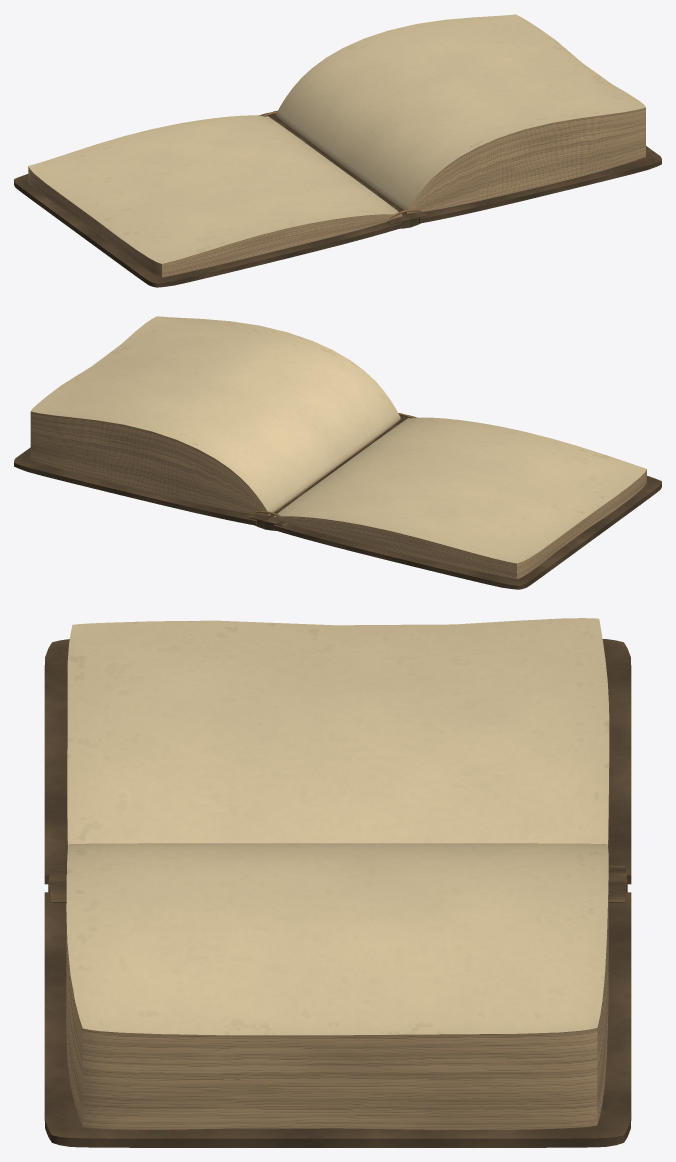
File: OpenBook_08.fbx
The picture shows the model from 3 angles, top to bottom: view 1: azimuth 30°, elevation 25°; view 2: azimuth 150°, elevation 25°; view 3: azimuth 270°, elevation 25°; orthographic projection. The views are drawn at different scales.
Visible parts, largest first — view 1: OpenBook_08.001; view 2: OpenBook_08.001; view 3: OpenBook_08.001.
Boxes of the visible parts, x1,y1,x2,y2 form: OpenBook_08.001: (14, 14, 661, 287); OpenBook_08.001: (14, 316, 661, 589); OpenBook_08.001: (44, 618, 631, 1147).
Size of the model in its own units: 0.467 by 0.0574 by 0.232.
